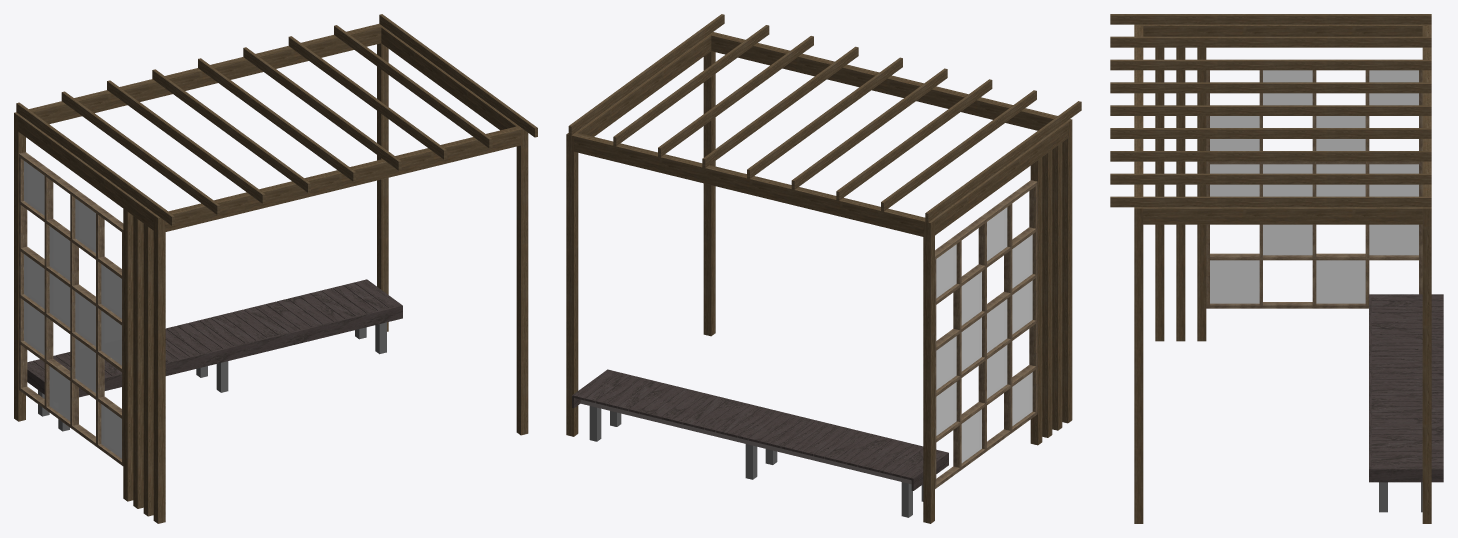
The model's file is pp4-g_brownebony.fbx.
3 views of the same model, side by side, from view 1: azimuth 30°, elevation 25°; view 2: azimuth 150°, elevation 25°; view 3: azimuth 270°, elevation 25° (orthographic). The views are drawn at different scales.
Parts seen in each view (by area): view 1: pp4-g_brownebony2; view 2: pp4-g_brownebony2; view 3: pp4-g_brownebony2.
Boxes of the visible parts, x1,y1,x2,y2 form: pp4-g_brownebony2: (14, 14, 537, 523); pp4-g_brownebony2: (566, 14, 1081, 523); pp4-g_brownebony2: (1110, 14, 1443, 523).
Bounding box in the file's own units: 367 × 298 × 277.
Materials: 7 (4 with a texture image).
